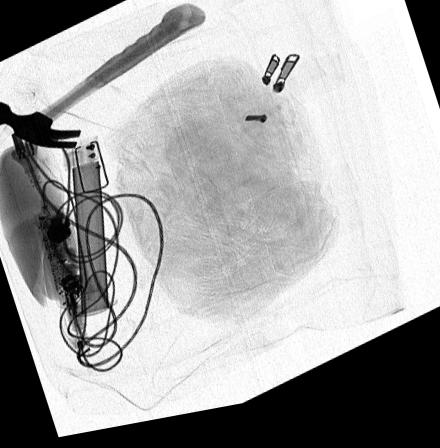Hammer: (0, 10, 204, 151)
